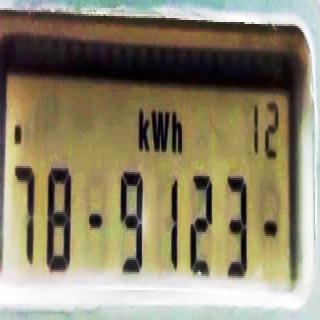-: (263, 212, 278, 242), (88, 207, 103, 235), (13, 118, 23, 149)
1: (168, 173, 181, 280), (251, 95, 259, 161)
2: (187, 168, 216, 282), (263, 96, 281, 170)
3: (224, 171, 248, 288)
7: (14, 158, 36, 274)
8: (43, 159, 73, 280)
9: (117, 162, 146, 280)
